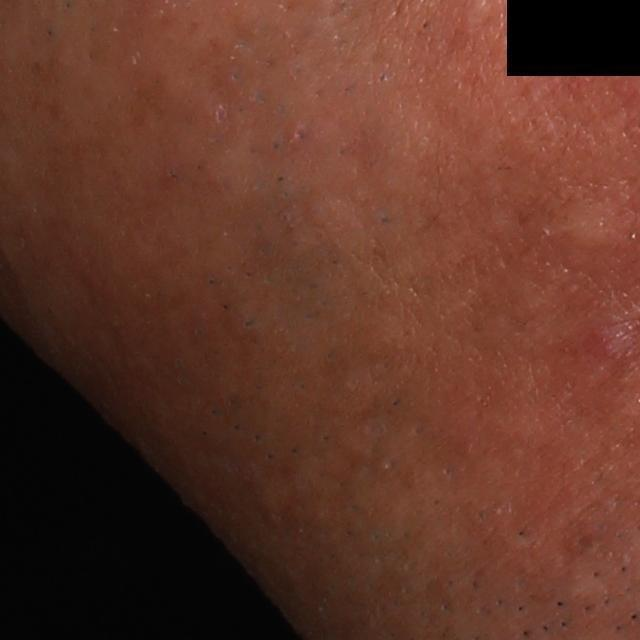hypertrophic_scar: (548, 201, 630, 248)
papule: (580, 325, 633, 360)
